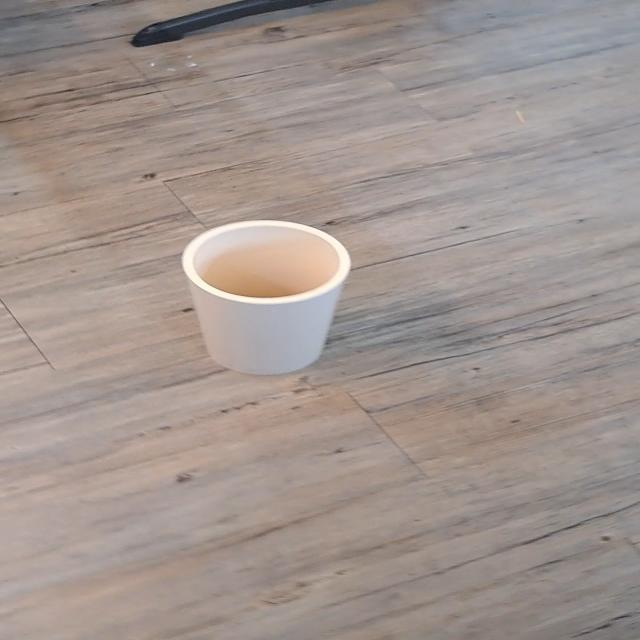CORAL: (175, 214, 357, 382)
